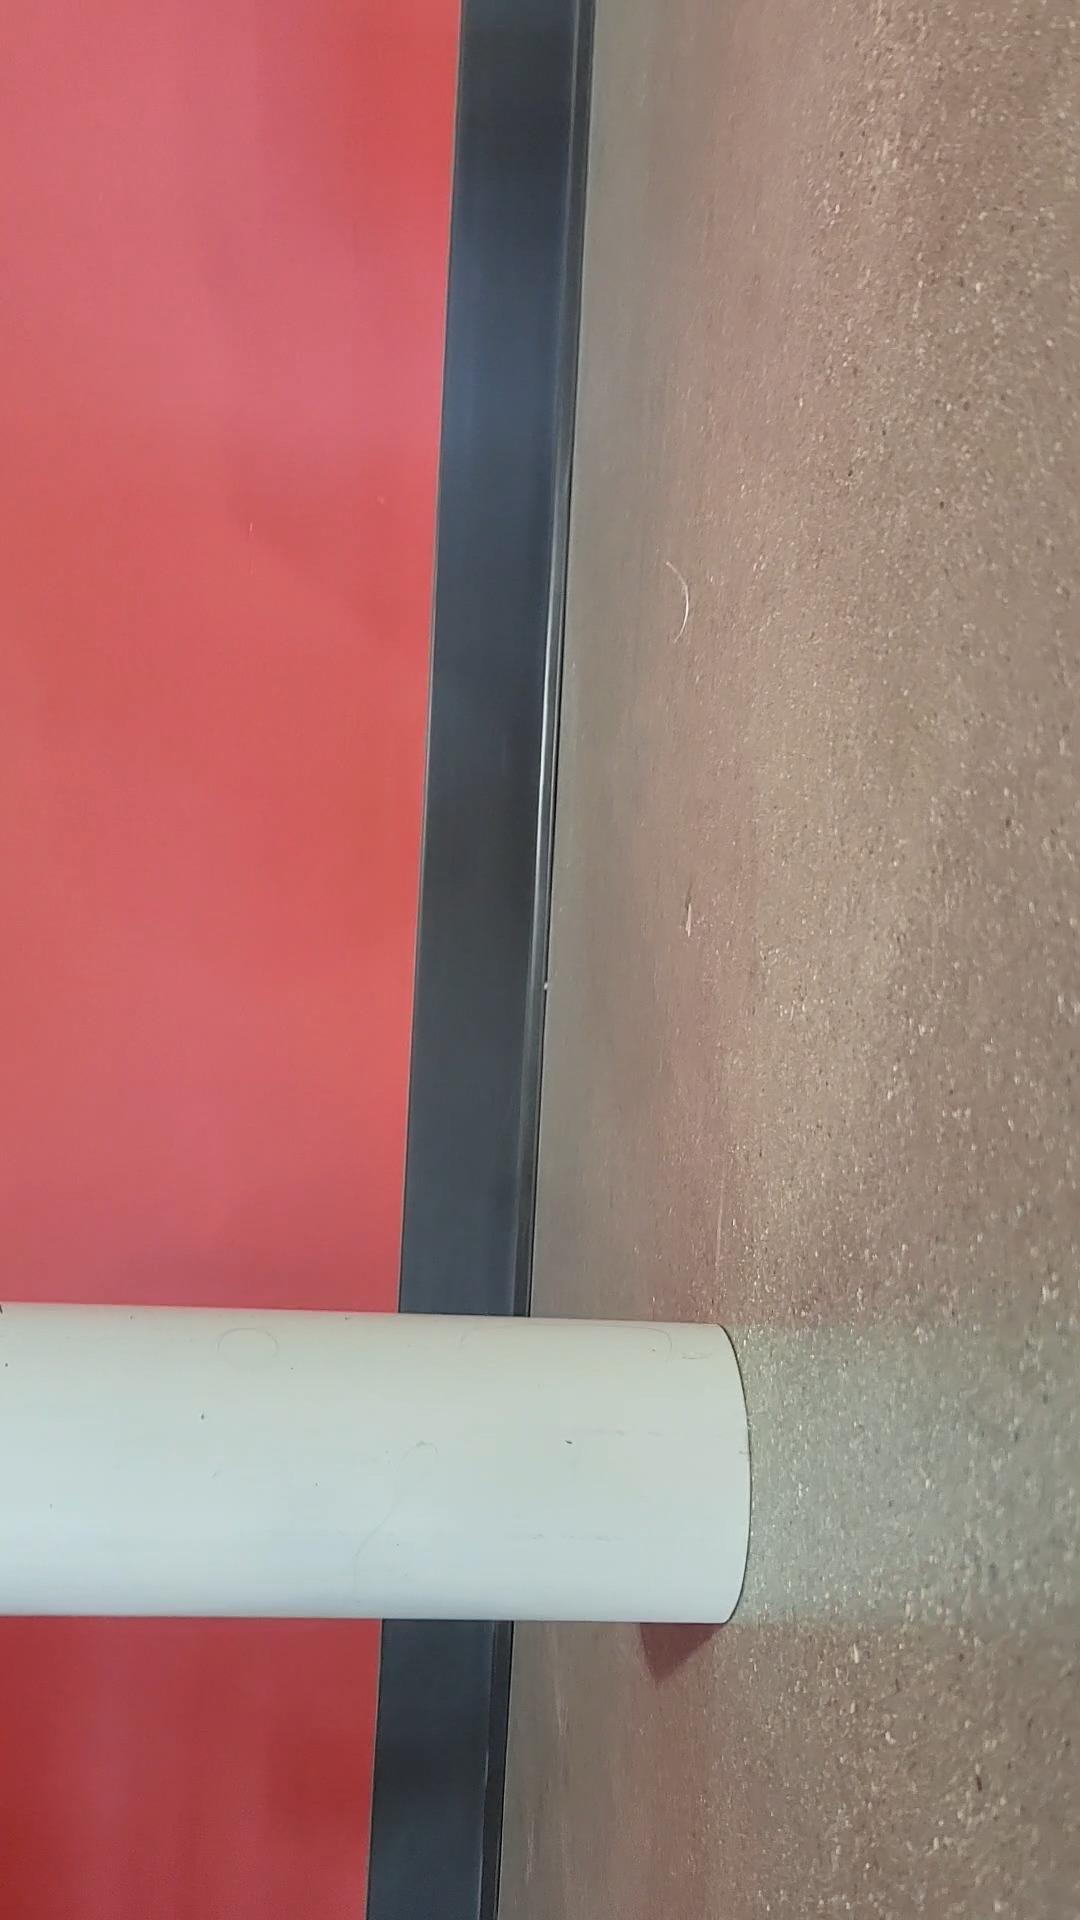coral: (0, 1298, 760, 1630)
